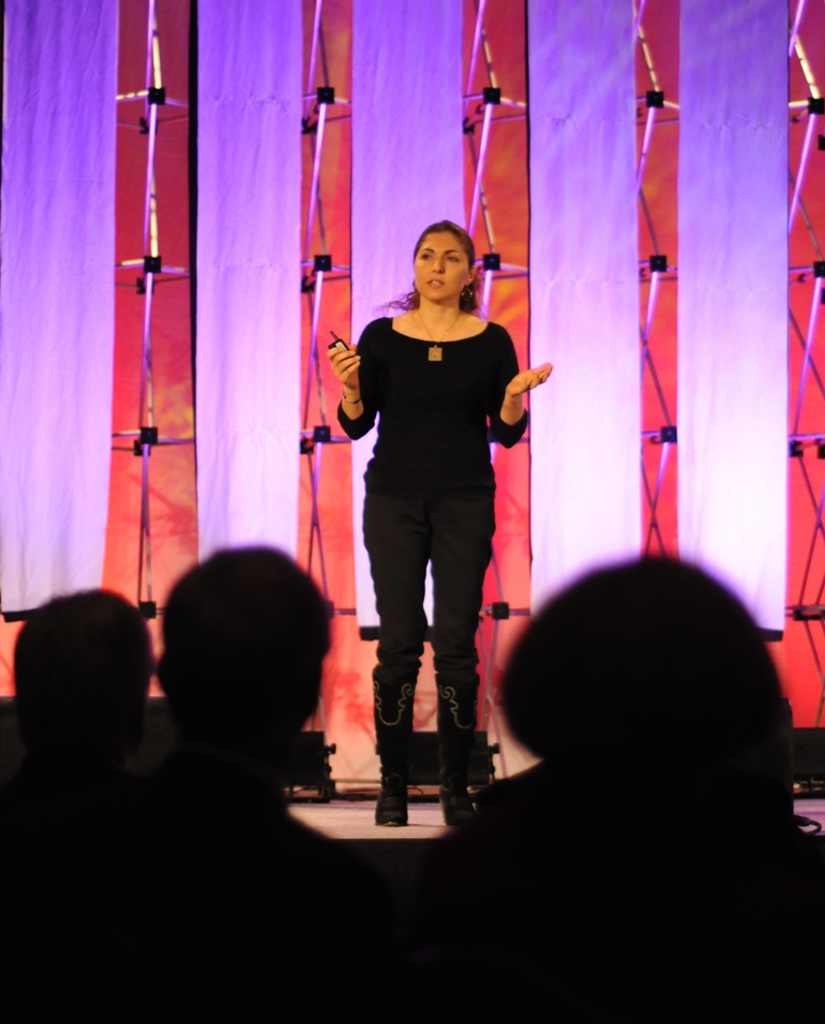Footwear: (440, 765, 491, 834), (373, 777, 412, 833)
